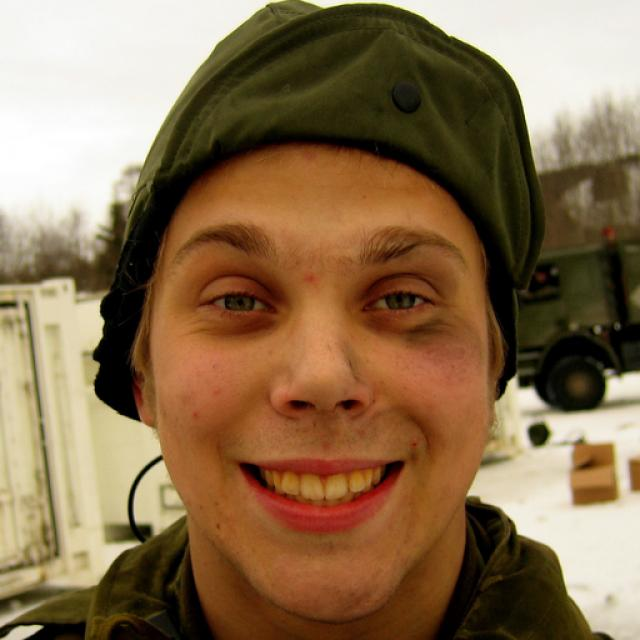Pigmentation: (389, 313, 488, 401)
